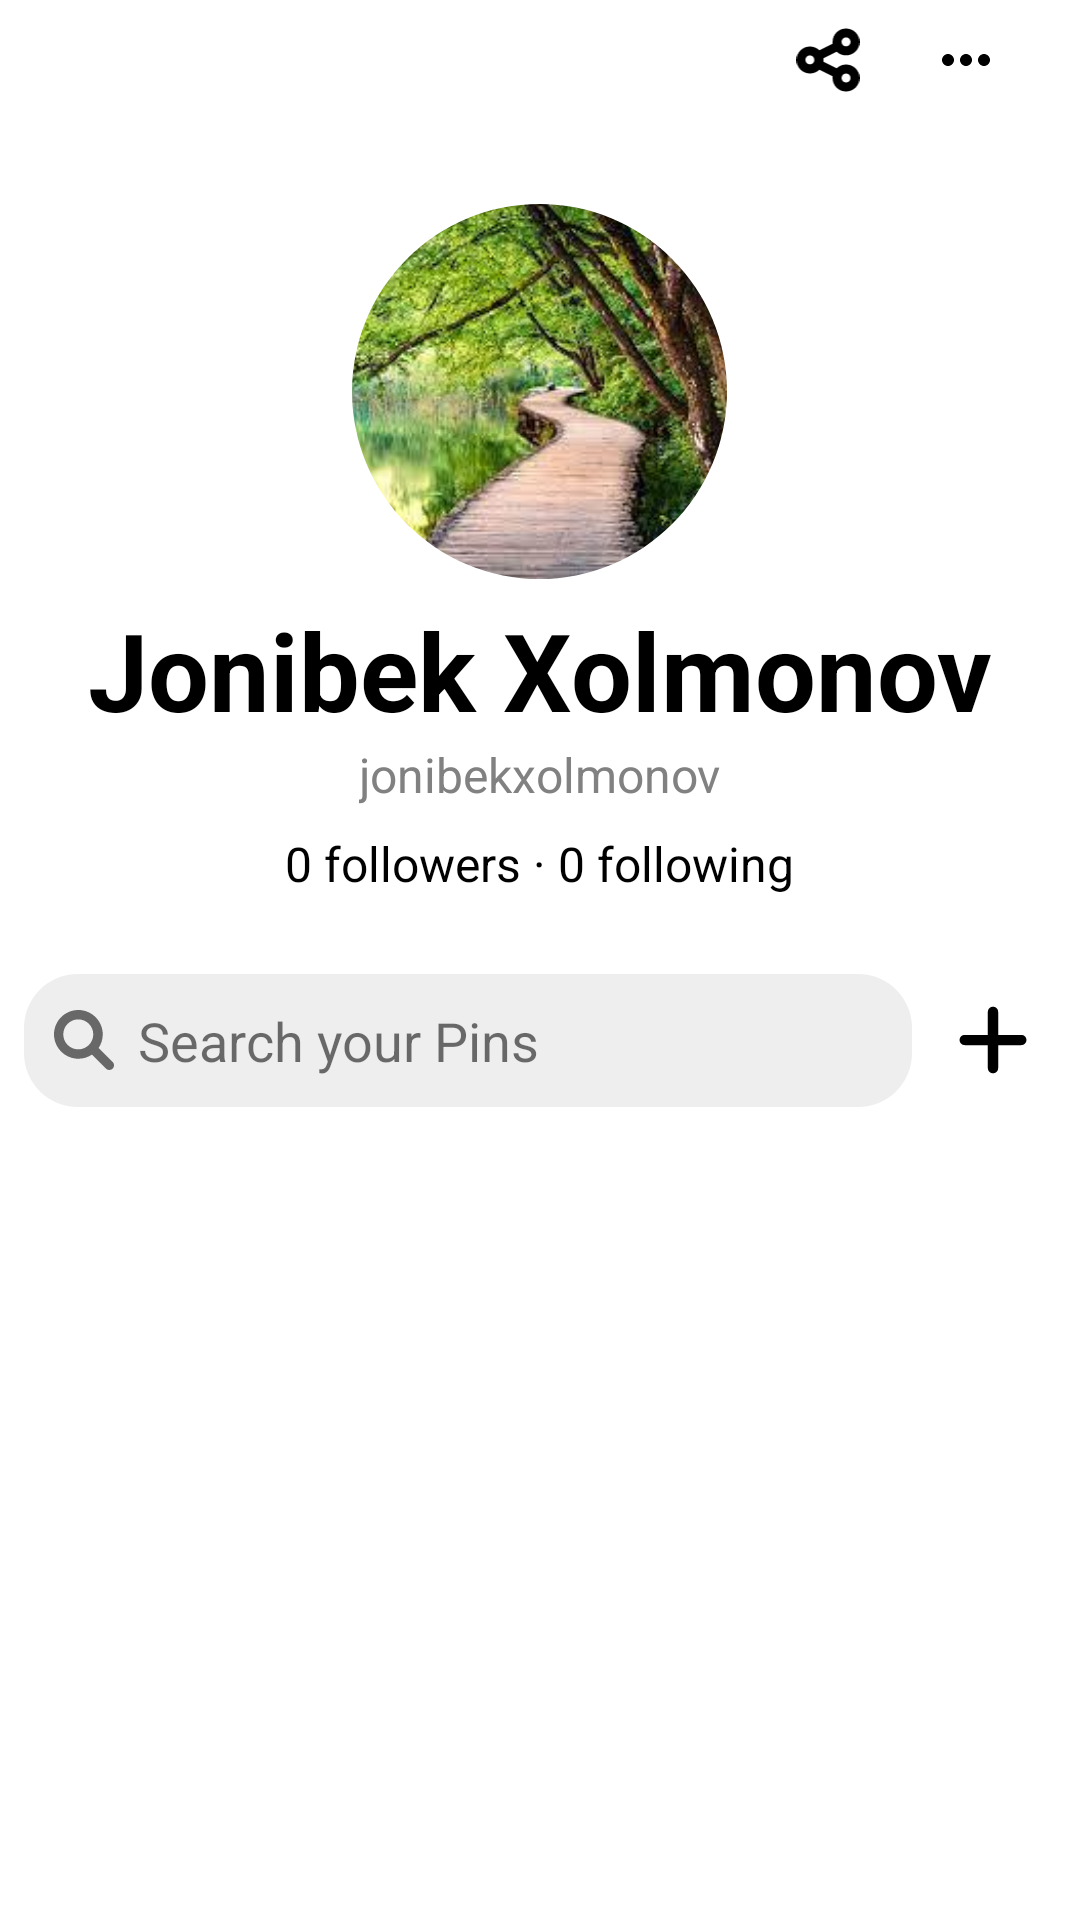

Point at icon controls on the screen. Image size 1080px×1920px, points as (x=x, y=y).
more: (x=966, y=60)
plus: (x=993, y=1040)
share: (x=828, y=60)
